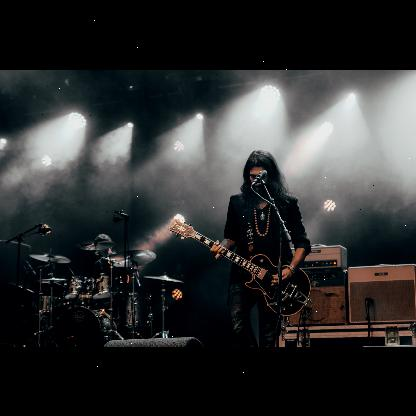guitar: (170, 216, 312, 316)
